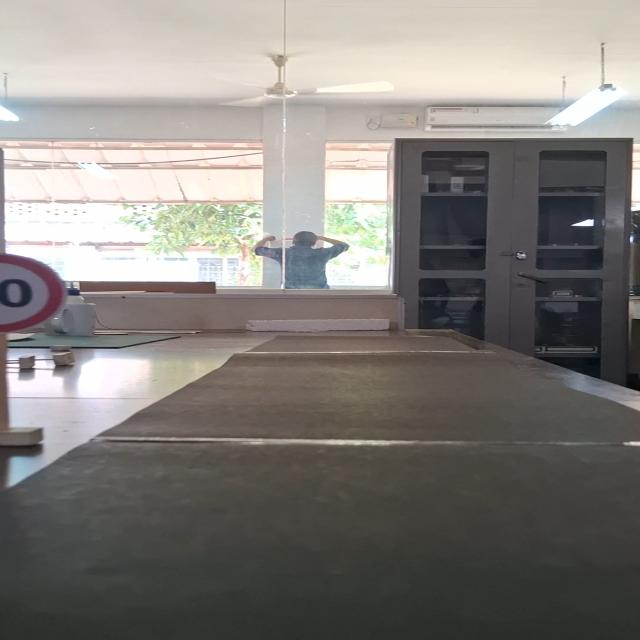Reject: (0, 247, 73, 338)
